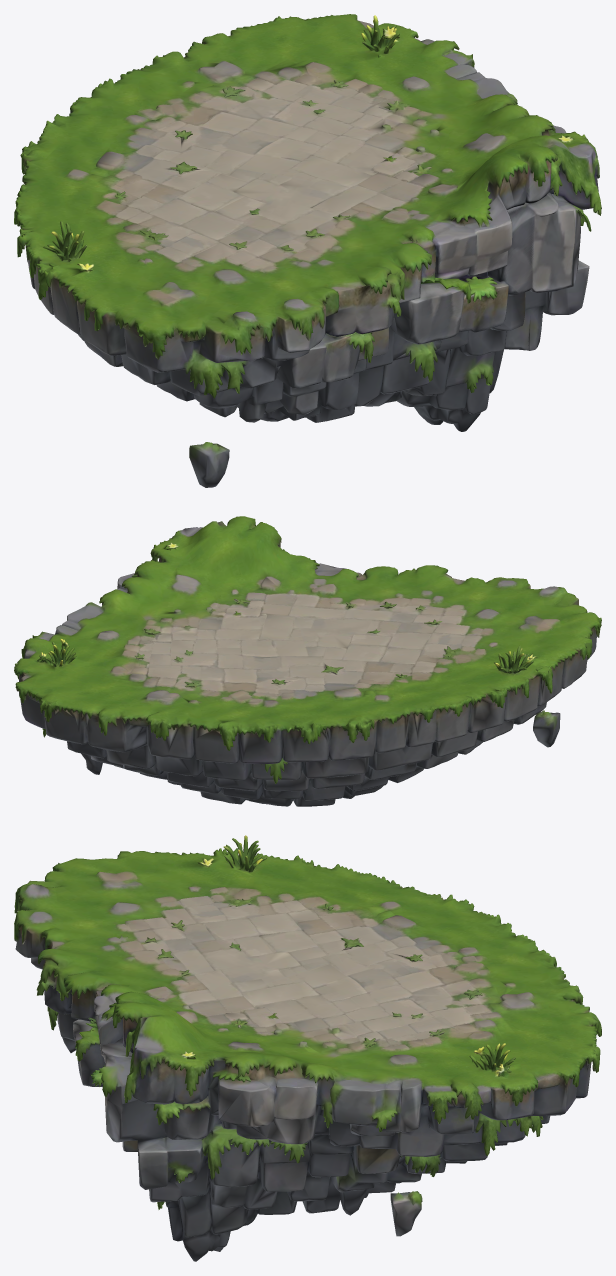
File: island-flat-v2-lite.glb
3 renders of one model, top to bottom at view 1: azimuth 30°, elevation 25°; view 2: azimuth 150°, elevation 25°; view 3: azimuth 270°, elevation 25°, orthographic. The views are drawn at different scales.
Parts seen in each view (by area): view 1: tripo_node_a02264bc-14dd-4587-8488-bdd92dcfaa37; view 2: tripo_node_a02264bc-14dd-4587-8488-bdd92dcfaa37; view 3: tripo_node_a02264bc-14dd-4587-8488-bdd92dcfaa37.
Part boxes in pixels (x1,y1,x2,y2): tripo_node_a02264bc-14dd-4587-8488-bdd92dcfaa37: [14, 14, 601, 487]; tripo_node_a02264bc-14dd-4587-8488-bdd92dcfaa37: [14, 516, 601, 806]; tripo_node_a02264bc-14dd-4587-8488-bdd92dcfaa37: [14, 835, 601, 1261].
Bounding box in the file's own units: 4.93 × 2.54 × 4.94.
Materials: 1 (1 with a texture image).
